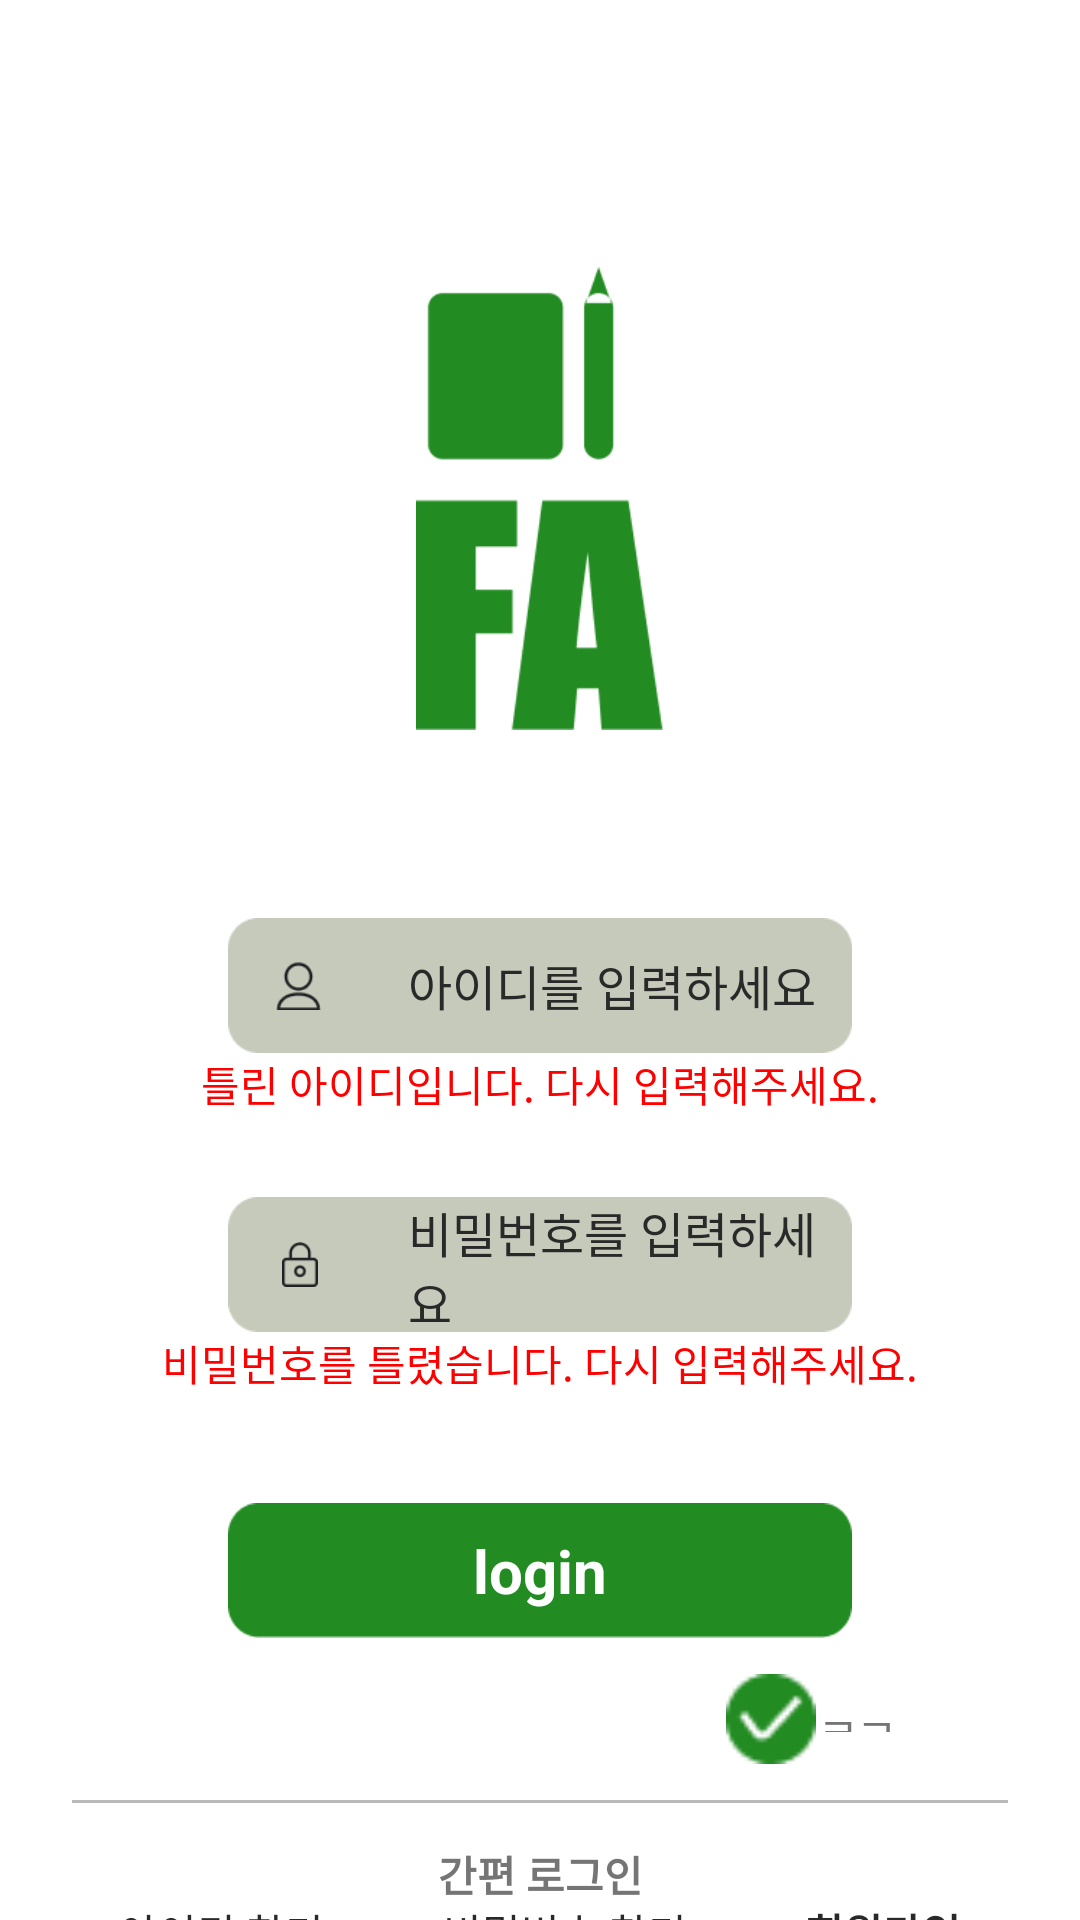

Locate icon controls on the screen. Image size 1080×1920, boxes as (x1, y1, x2, y2).
checked: (726, 1674, 816, 1764)
password: (282, 1242, 318, 1287)
